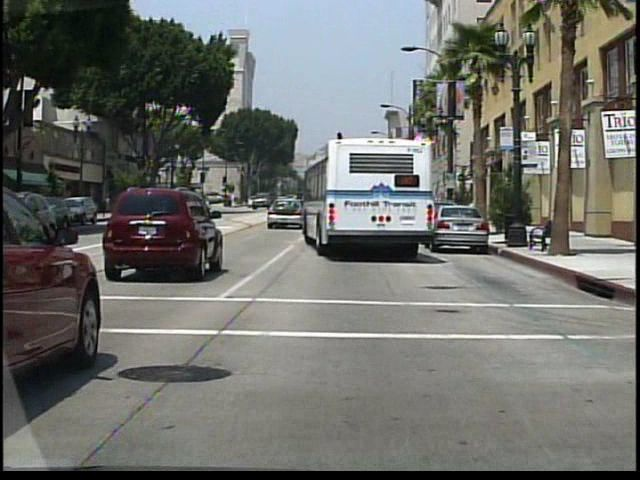person: (452, 190, 464, 228)
